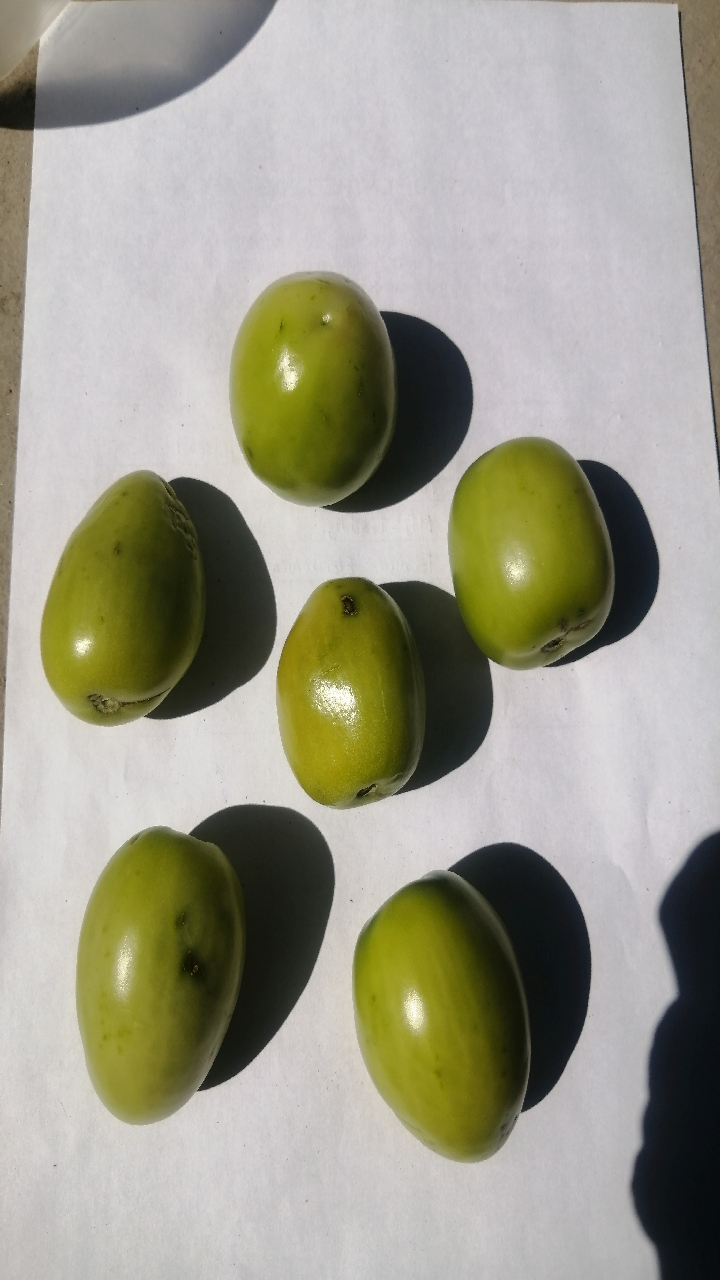tomateVerde: (323, 854, 552, 1177), (48, 809, 257, 1140), (195, 246, 426, 529), (434, 415, 641, 692), (20, 457, 217, 745), (272, 557, 434, 820)
